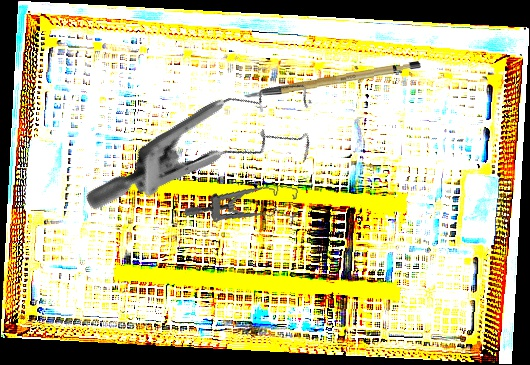Scalpel Handle: (241, 58, 422, 99)
Speculum: (82, 17, 342, 294), (183, 169, 301, 236)
